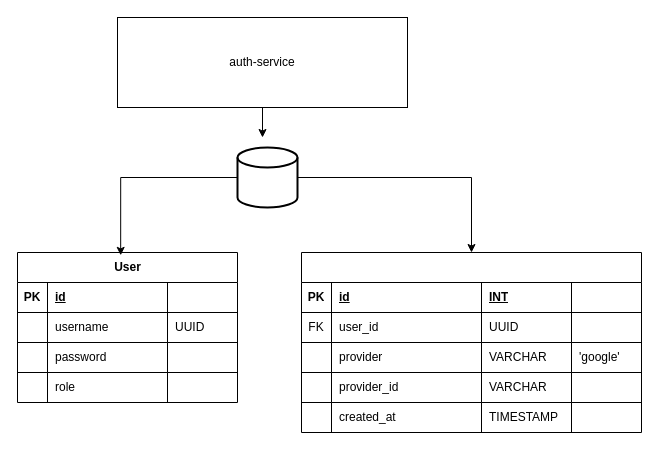
Some shapes in this 659 by 450 pixel diagram are drawn without their labels. The shapes that lost their labels are listed below. From the top down, each one's box as (x1, y1, x2, y2) in pixels, then its label:
(236, 146, 298, 208): authdb
(300, 252, 642, 432): ExternalIdentity
